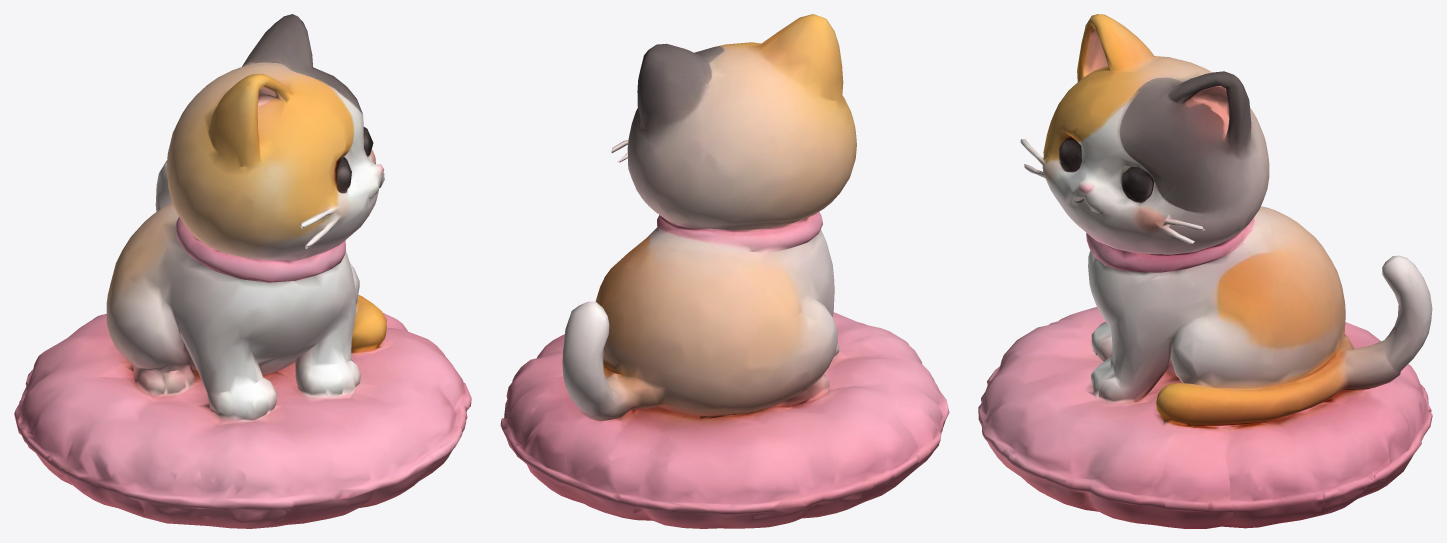
File: cat.glb
The picture shows the model from 3 angles, left to right: view 1: azimuth 30°, elevation 25°; view 2: azimuth 150°, elevation 25°; view 3: azimuth 270°, elevation 25°; orthographic projection. The views are drawn at different scales.
Parts seen in each view (by area): view 1: tripo_node_bb5c287e-abbd-468f-8608-7fa69a40ff7c; view 2: tripo_node_bb5c287e-abbd-468f-8608-7fa69a40ff7c; view 3: tripo_node_bb5c287e-abbd-468f-8608-7fa69a40ff7c.
Boxes of the visible parts, x1=… form: tripo_node_bb5c287e-abbd-468f-8608-7fa69a40ff7c: x1=14, y1=14, x2=471, y2=528; tripo_node_bb5c287e-abbd-468f-8608-7fa69a40ff7c: x1=500, y1=14, x2=949, y2=528; tripo_node_bb5c287e-abbd-468f-8608-7fa69a40ff7c: x1=978, y1=14, x2=1432, y2=528.
Size of the model in its own units: 0.9762 by 1 by 0.9781.
1 material, 1 textured.
